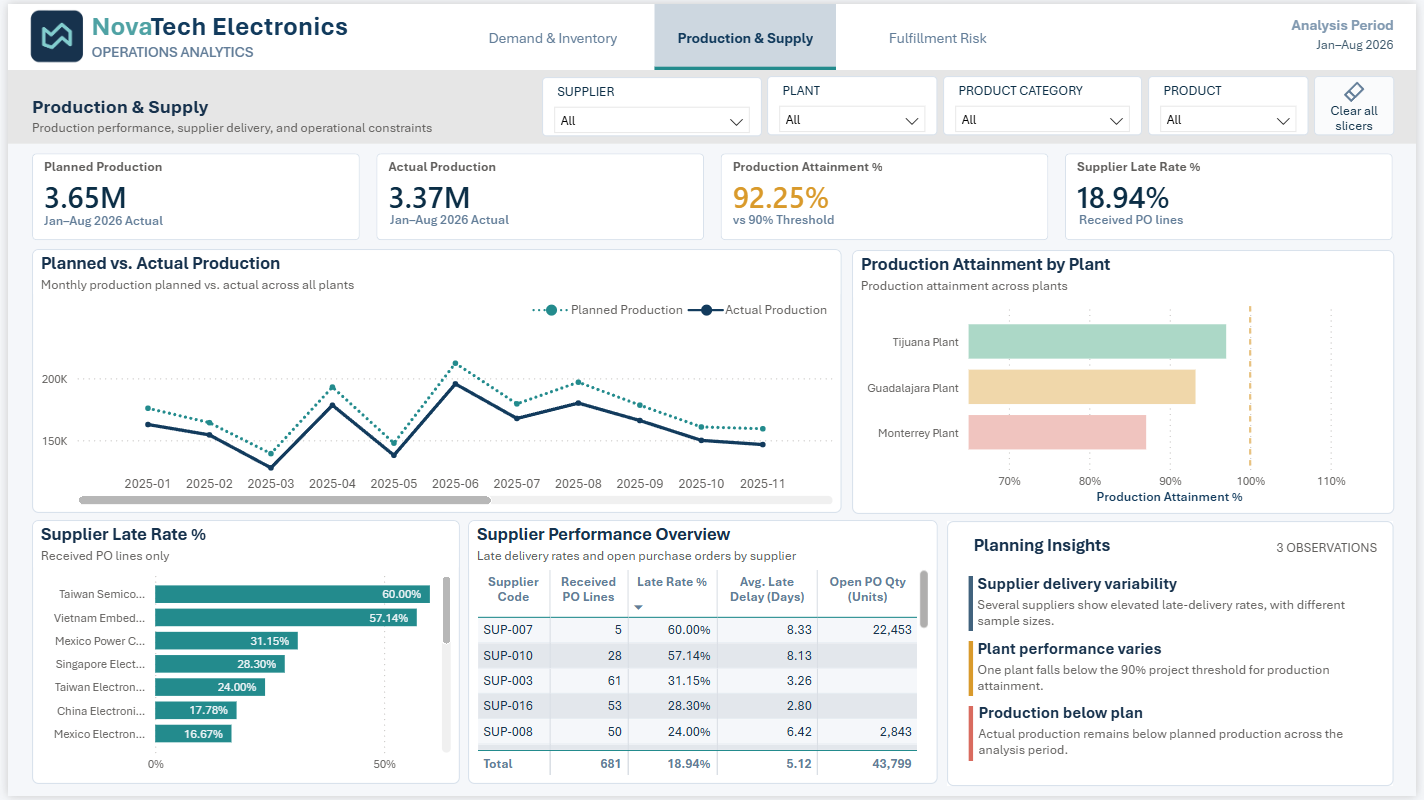

The dashboard page shown, as its layout file describes it:
{"tool":"powerbi","page":{"name":"Production & Supply","canvas":[1280,720],"ordinal":1},"visuals":[{"type":"shape","title":"barra blanca","box":[0,0,1280,60],"z":0},{"type":"cardVisual","title":"Production & Supply","fields":{"Data":["_measures.Planned Production","_measures.Actual Production","_measures.Production Attainment %","_measures.Supplier Late Rate %"]},"box":[22,83,1237.9,132.6],"z":0,"group":"g2"},{"type":"shape","title":"forma insigths","box":[853.3,470.1,406,241],"z":0,"group":"g1"},{"type":"shape","title":"barra gris","box":[0,60,1280,67],"z":1000},{"type":"textbox","box":[33,190,278.9,16],"z":1000,"group":"g2"},{"type":"shape","box":[869,520,12.4,50],"z":1000,"group":"g1"},{"type":"textbox","box":[347.6,189.8,278.9,16],"z":2000,"group":"g2"},{"type":"lineChart","title":"Planned vs. Actual Production","fields":{"Y":["_measures.Planned Production","_measures.Actual Production"],"Category":["dim_date.year_month"]},"box":[21.7,222.4,735.8,240.5],"z":2000},{"type":"shape","box":[868.6,638,12.5,50],"z":2000,"group":"g1"},{"type":"textbox","box":[659.7,189.8,278.9,16],"z":3000,"group":"g2"},{"type":"barChart","title":"Production Attainment by Plant","fields":{"Category":["dim_plant.plant_name"],"Y":["_measures.Production Attainment %"]},"box":[767.5,223.3,492.7,239.5],"z":3000},{"type":"shape","box":[868.6,579,12.5,50],"z":3000,"group":"g1"},{"type":"textbox","box":[973.6,189.8,278.9,16],"z":4000,"group":"g2"},{"type":"clusteredBarChart","title":"Supplier Late Rate %","fields":{"Category":["dim_supplier.supplier_name","dim_supplier.supplier_code"],"Y":["_measures.Supplier Late Rate %"]},"box":[21.7,469.2,388.7,240.5],"z":4000},{"type":"textbox","title":"Production below plan","box":[876.6,635.9,376.4,55],"z":4000,"group":"g1"},{"type":"tableEx","title":"Supplier Performance Overview","fields":{"Values":["dim_supplier.supplier_code","_measures.Received PO Lines","_measures.Supplier Late Rate %","_measures.Average Supplier Delay Days","_measures.Open PO Quantity"]},"box":[418.5,469.2,426.7,240.5],"z":5000},{"type":"textbox","title":"Plant performance varies","box":[876.3,577.3,376.4,55],"z":5000,"group":"g1"},{"type":"group","id":"g1","title":"insigths3","box":[853.3,470.1,406,241],"z":6000},{"type":"textbox","title":"Supplier delivery variability","box":[876.3,518.7,376.4,55],"z":6000,"group":"g1"},{"type":"pageNavigator","box":[412.5,0,516.7,60],"z":7000},{"type":"textbox","box":[1095.6,482.1,153.3,23.3],"z":7000,"group":"g1"},{"type":"textbox","title":"titulo reporte","box":[71,0,262.4,60.3],"z":8000},{"type":"textbox","title":"Planning Insights","box":[872.3,482.1,153.3,23.3],"z":8000,"group":"g1"},{"type":"textbox","title":"Analysis Period","box":[1146.7,10.7,113.3,38.7],"z":9000},{"type":"image","title":"logo","box":[15.9,4.1,59.7,51.4],"z":10000},{"type":"group","id":"g2","title":"kpis","box":[22,83,1237.9,132.6],"z":11000},{"type":"slicer","title":"SUPPLIER filtro","fields":{"Values":["dim_supplier.supplier_name"]},"box":[485,66,200,54],"z":12000},{"type":"slicer","title":"PLANT","fields":{"Values":["dim_plant.plant_name"]},"box":[690.1,65.7,155,54],"z":13000},{"type":"slicer","title":"PRODUCT","fields":{"Values":["dim_product.product_name"]},"box":[1036.2,65.7,146,54],"z":14000},{"type":"slicer","title":"PRODUCT CATEGORY","fields":{"Values":["dim_product.product_category"]},"box":[850.2,65.8,180.9,53.6],"z":15000},{"type":"actionButton","box":[1187.3,65.6,72.9,54.1],"z":16000}]}

Visuals, with their boxes in screenshot pixels (x1, y1, x2, y2), scaled from the page's 1280x720 canvas onto the 1424x800 screenshot:
"barra blanca" shape: 0/0/1423/67
"Production & Supply" cardVisual: 24/92/1402/240
"forma insigths" shape: 949/522/1401/790
"barra gris" shape: 0/67/1423/141
textbox: 37/211/347/229
shape: 967/578/981/633
textbox: 387/211/697/229
"Planned vs. Actual Production" lineChart: 24/247/843/514
shape: 966/709/980/764
textbox: 734/211/1044/229
"Production Attainment by Plant" barChart: 854/248/1402/514
shape: 966/643/980/699
textbox: 1083/211/1393/229
"Supplier Late Rate %" clusteredBarChart: 24/521/457/789
"Production below plan" textbox: 975/707/1394/768
"Supplier Performance Overview" tableEx: 466/521/940/789
"Plant performance varies" textbox: 975/641/1394/703
"insigths3" group: 949/522/1401/790
"Supplier delivery variability" textbox: 975/576/1394/637
pageNavigator: 459/0/1034/67
textbox: 1219/536/1389/562
"titulo reporte" textbox: 79/0/371/67
"Planning Insights" textbox: 970/536/1141/562
"Analysis Period" textbox: 1276/12/1402/55
"logo" image: 18/5/84/62
"kpis" group: 24/92/1402/240
"SUPPLIER filtro" slicer: 540/73/762/133
"PLANT" slicer: 768/73/940/133
"PRODUCT" slicer: 1153/73/1315/133
"PRODUCT CATEGORY" slicer: 946/73/1147/133
actionButton: 1321/73/1402/133
